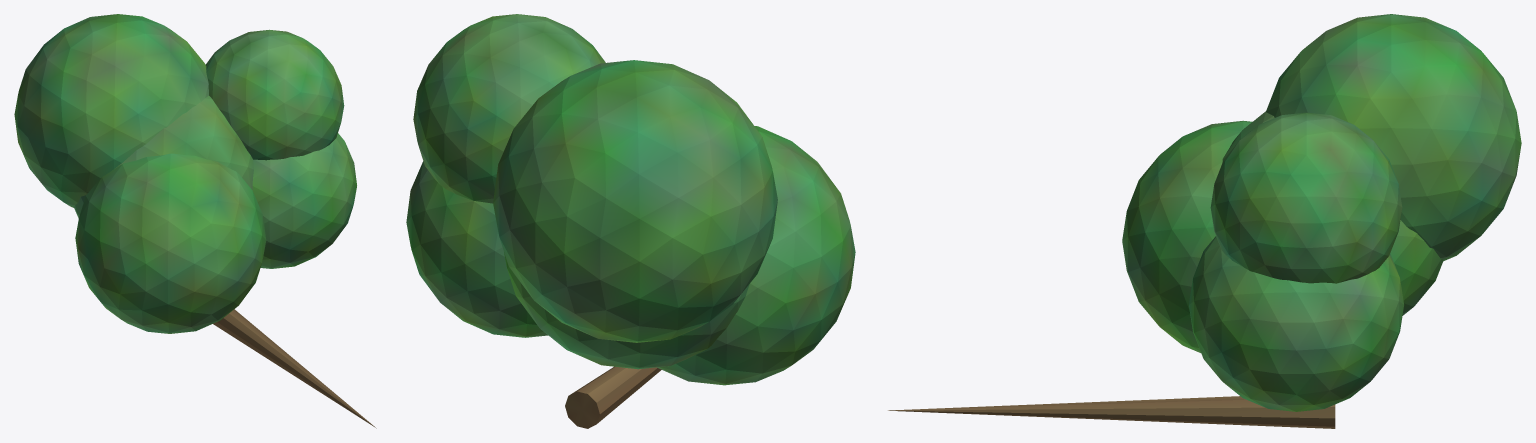
The model's file is tree_2.glb.
The picture shows the model from 3 angles, left to right: view 1: azimuth 30°, elevation 25°; view 2: azimuth 150°, elevation 25°; view 3: azimuth 270°, elevation 25°; orthographic projection. The views are drawn at different scales.
Visible parts, largest first — view 1: world; view 2: world; view 3: world.
Part boxes in pixels (<box>): world: <box>14,14,376,428</box>; world: <box>406,14,855,428</box>; world: <box>888,14,1521,428</box>.
Bounding box in the file's own units: 6.16 × 6.03 × 9.57.
